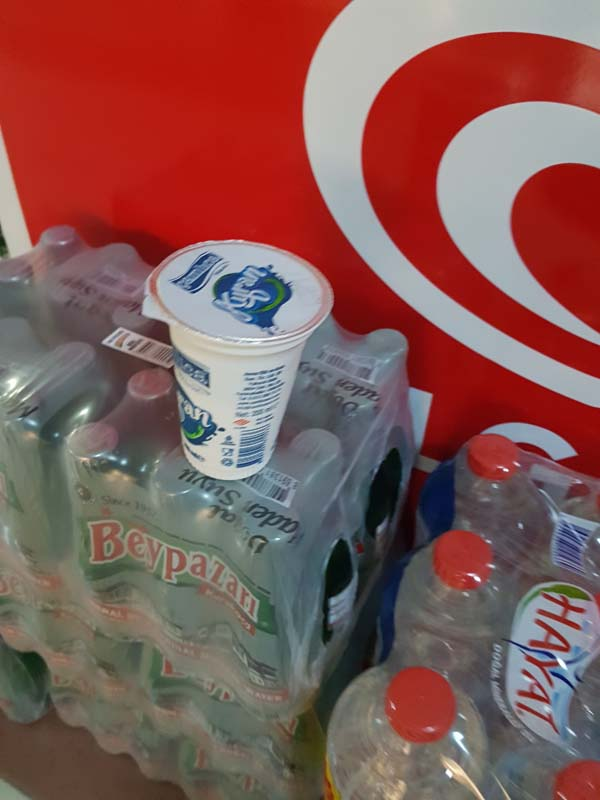camlicaayran: (137, 233, 340, 487)
